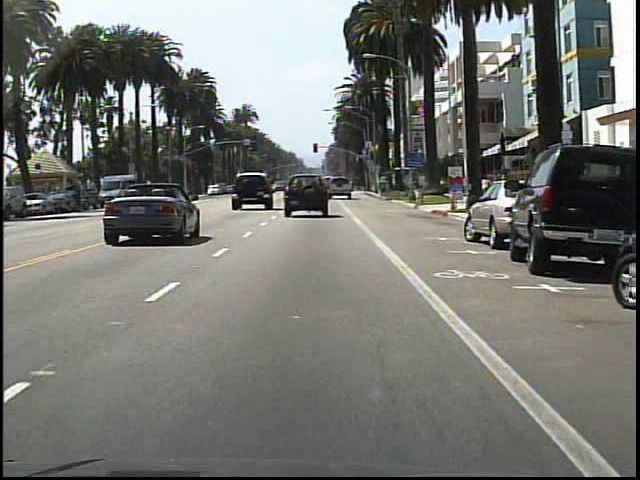person: (72, 177, 88, 214)
